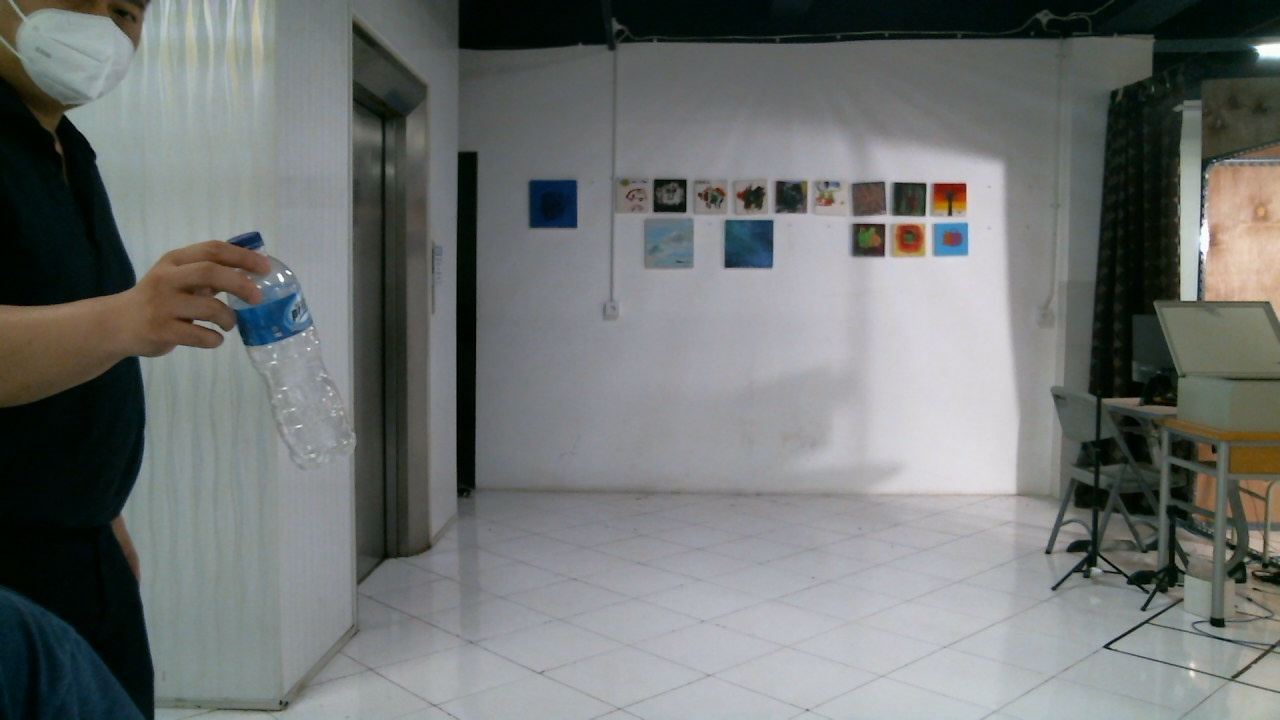Bottle: (222, 230, 355, 467)
